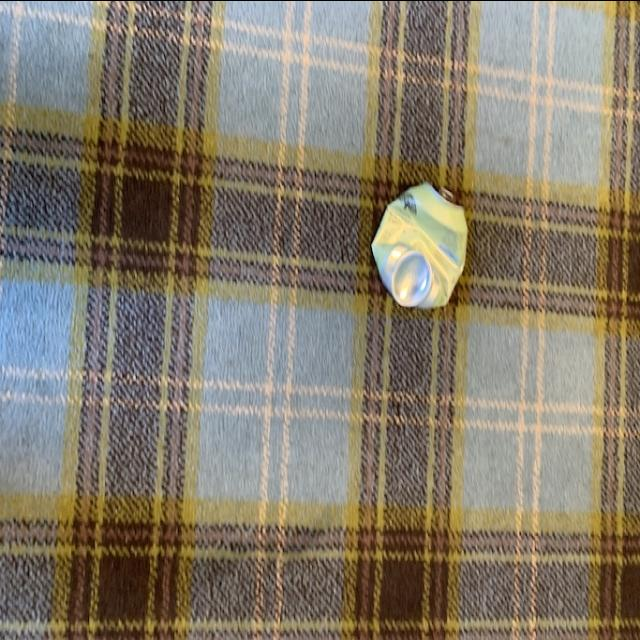Aluminum Can: (372, 174, 472, 310)
